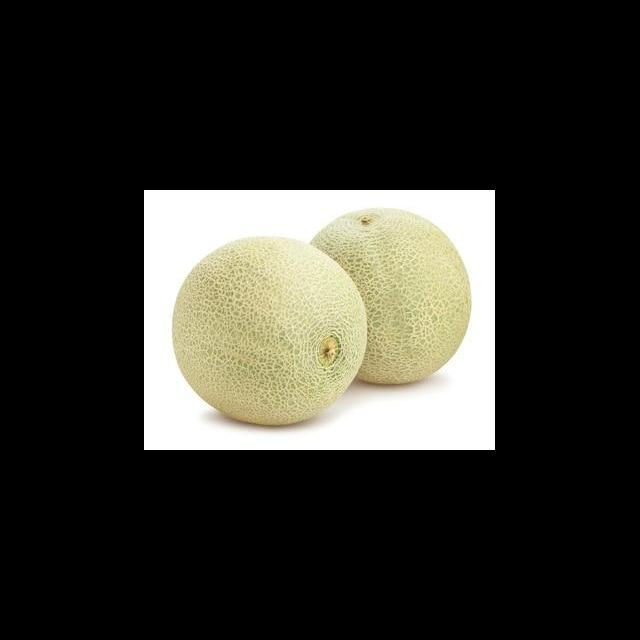Hami Melon: (173, 236, 366, 426), (317, 209, 471, 385)
